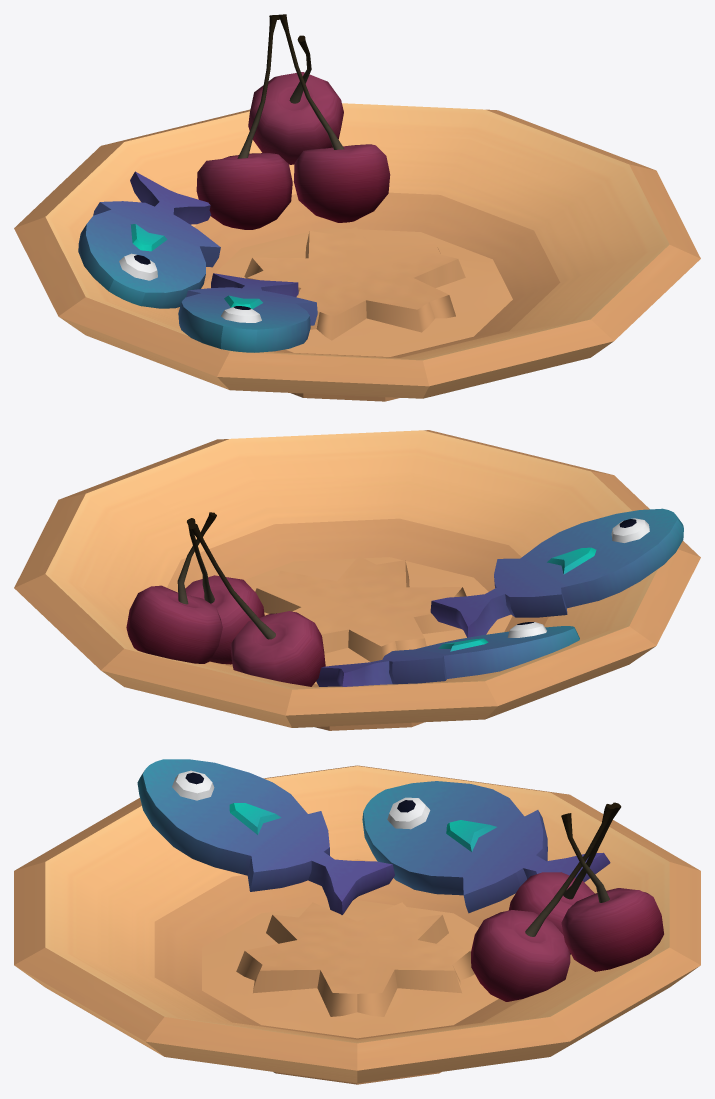
File: GoldenSaucer.fbx
3 views of the same model, one above another, from view 1: azimuth 30°, elevation 25°; view 2: azimuth 150°, elevation 25°; view 3: azimuth 270°, elevation 25° (orthographic). The views are drawn at different scales.
Parts seen in each view (by area): view 1: pCylinder28; view 2: pCylinder28; view 3: pCylinder28.
Part boxes in pixels (box(x1,y1,x2,y2)): pCylinder28: box(14, 14, 700, 401); pCylinder28: box(14, 430, 700, 730); pCylinder28: box(14, 759, 700, 1084).
Size of the model in its own units: 88.79 by 33.11 by 84.44.
